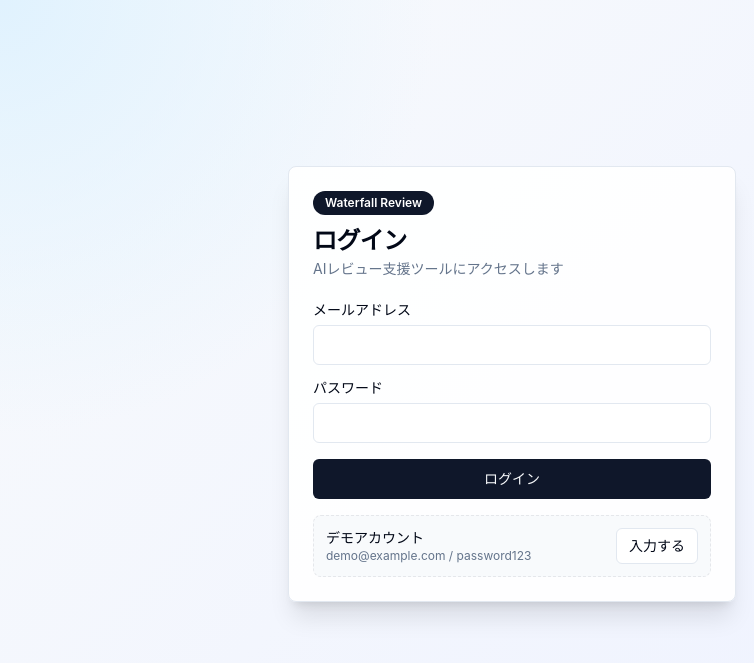
Test case: LoginPage › shows validation error on empty submit
Click the button "ログイン" at (512, 479), box [313,459,711,499]
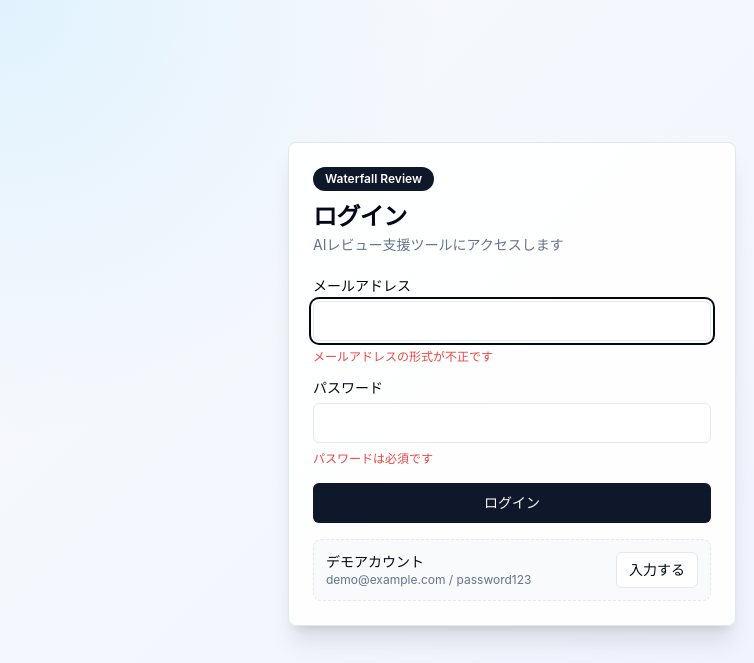
Now the text "メールアドレスの形式が不正です" is shown, box [313,349,493,364]
